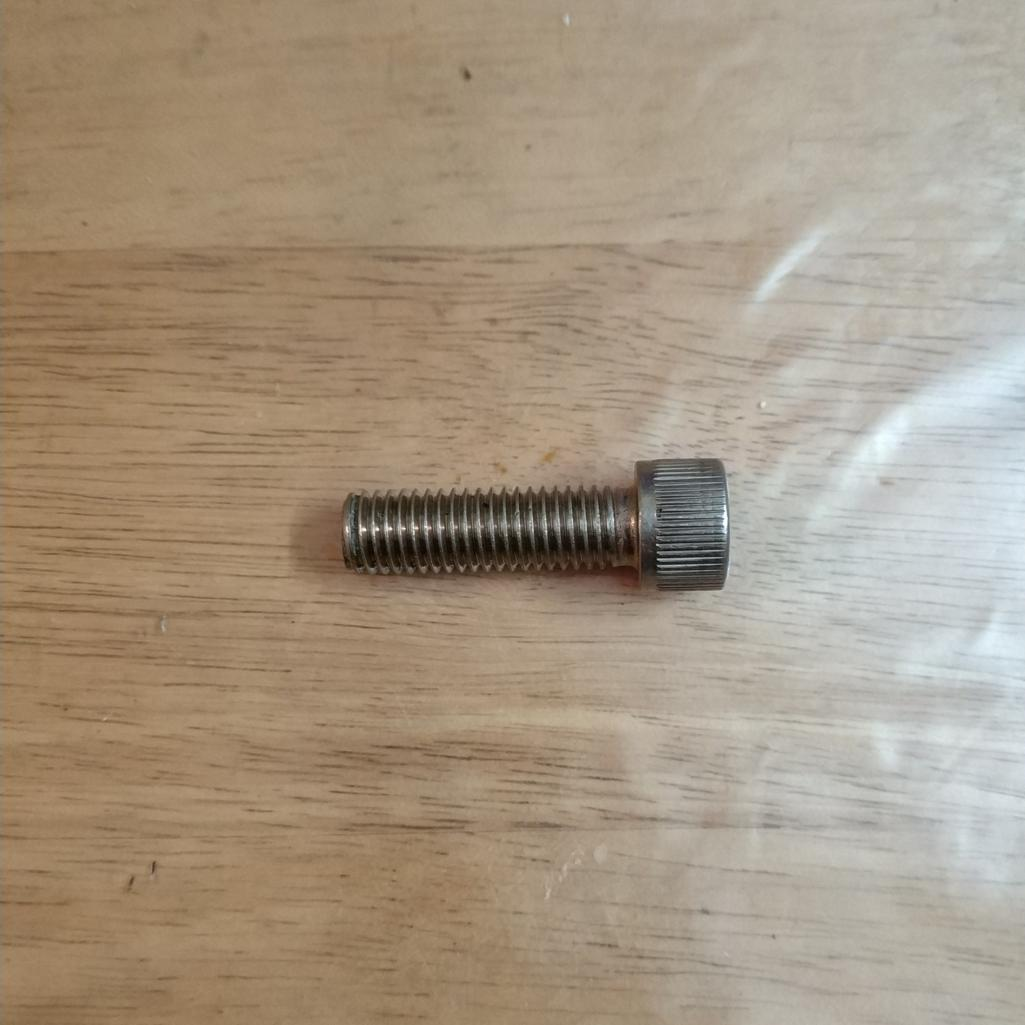screwtype1silver: (310, 438, 752, 638)
